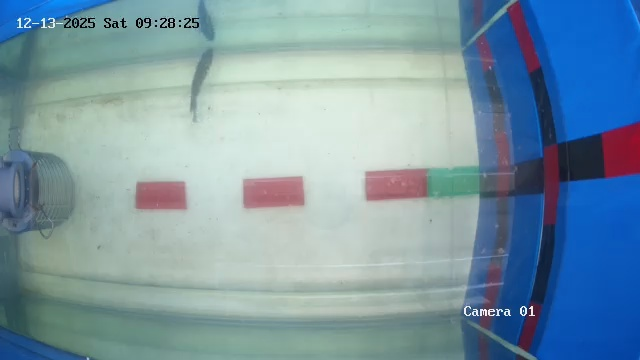fish: (183, 49, 221, 114)
